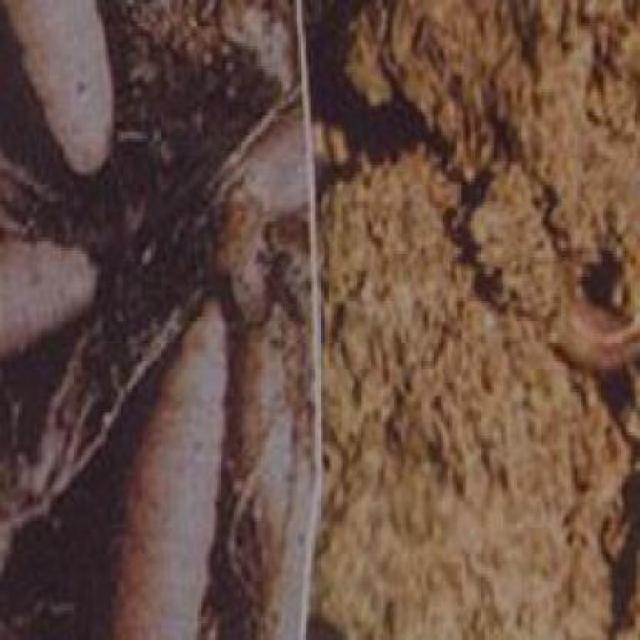whorl-maggot: (109, 290, 222, 638), (0, 3, 116, 170), (0, 244, 95, 361)
